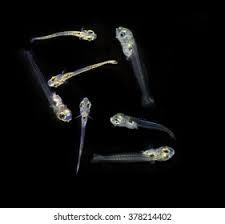fish: (16, 41, 74, 127), (111, 17, 160, 113), (89, 137, 193, 176), (100, 102, 189, 143), (44, 53, 122, 92), (67, 92, 99, 177), (25, 25, 103, 51), (142, 138, 179, 168), (39, 64, 77, 93), (73, 93, 98, 131), (109, 13, 135, 49), (67, 21, 99, 50), (106, 107, 137, 133), (49, 103, 79, 125)
